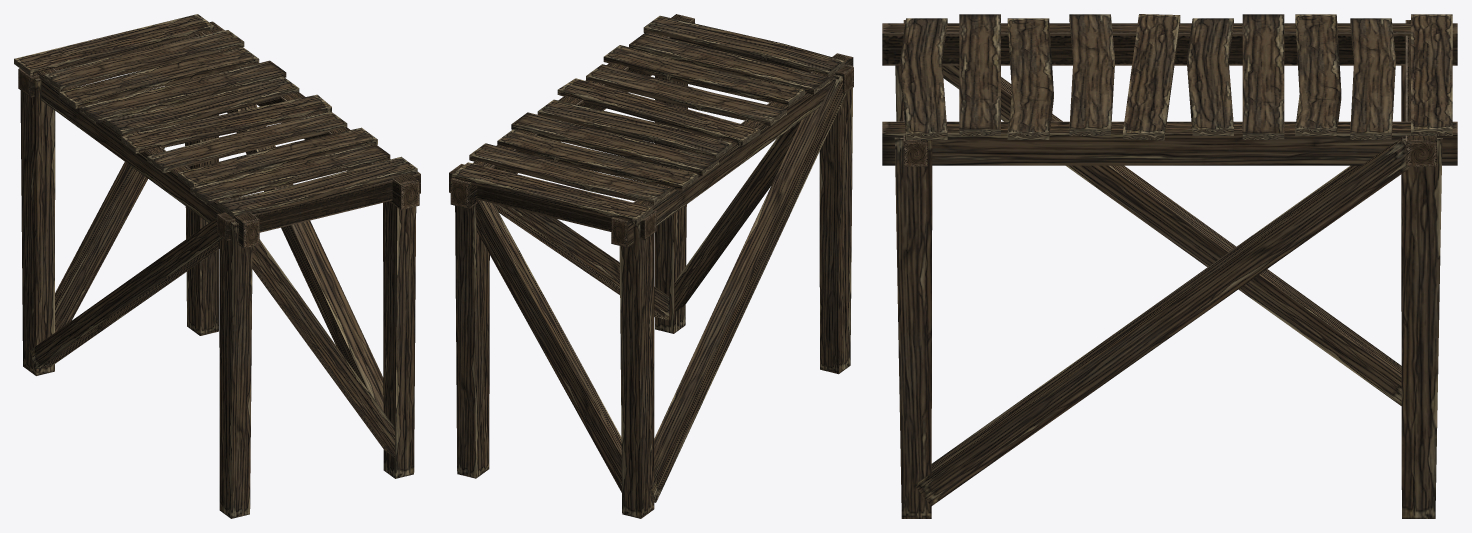
Rendered from Wood_4X6X8_02.fbx.
3 views of the same model, side by side, from view 1: azimuth 30°, elevation 25°; view 2: azimuth 150°, elevation 25°; view 3: azimuth 270°, elevation 25° (orthographic). The views are drawn at different scales.
Parts seen in each view (by area): view 1: Wood_4X6X8_02; view 2: Wood_4X6X8_02; view 3: Wood_4X6X8_02.
Part boxes in pixels (x1,y1,x2,y2): Wood_4X6X8_02: [14, 14, 420, 518]; Wood_4X6X8_02: [449, 14, 853, 518]; Wood_4X6X8_02: [882, 14, 1457, 518].
Size of the model in its own units: 4 by 5.97 by 8.
